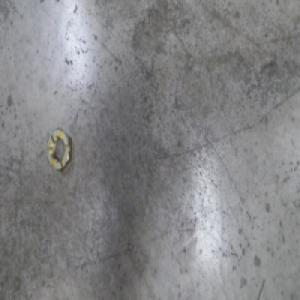Nut: (44, 124, 72, 171)
